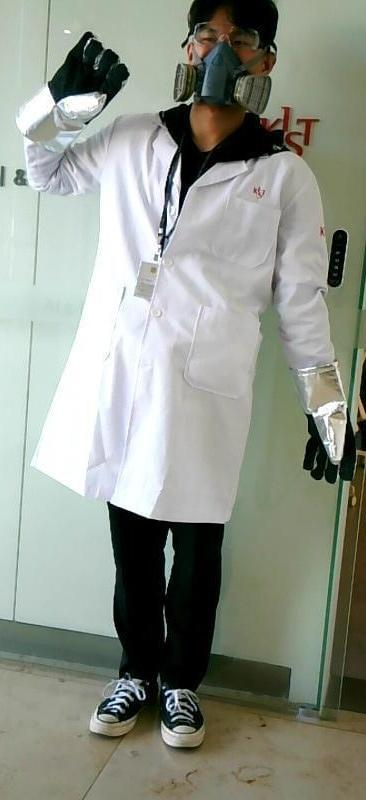lab_coat: (34, 149, 299, 481)
